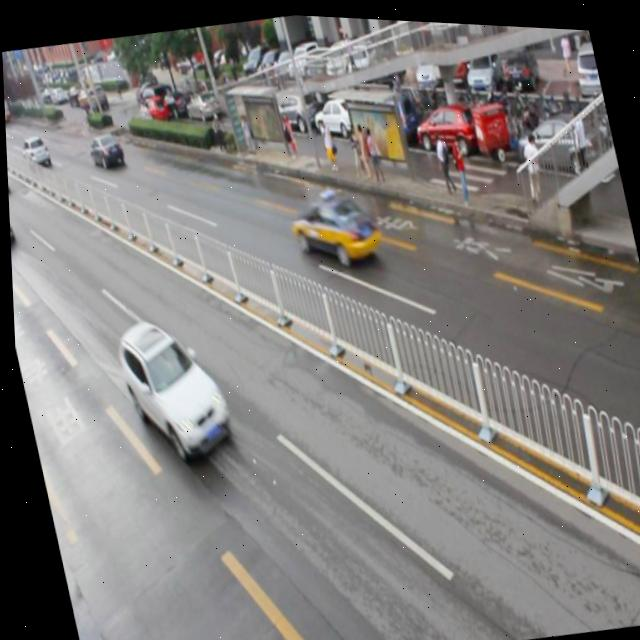car: (108, 306, 235, 467), (284, 180, 383, 271), (85, 129, 126, 172), (7, 199, 16, 253)
